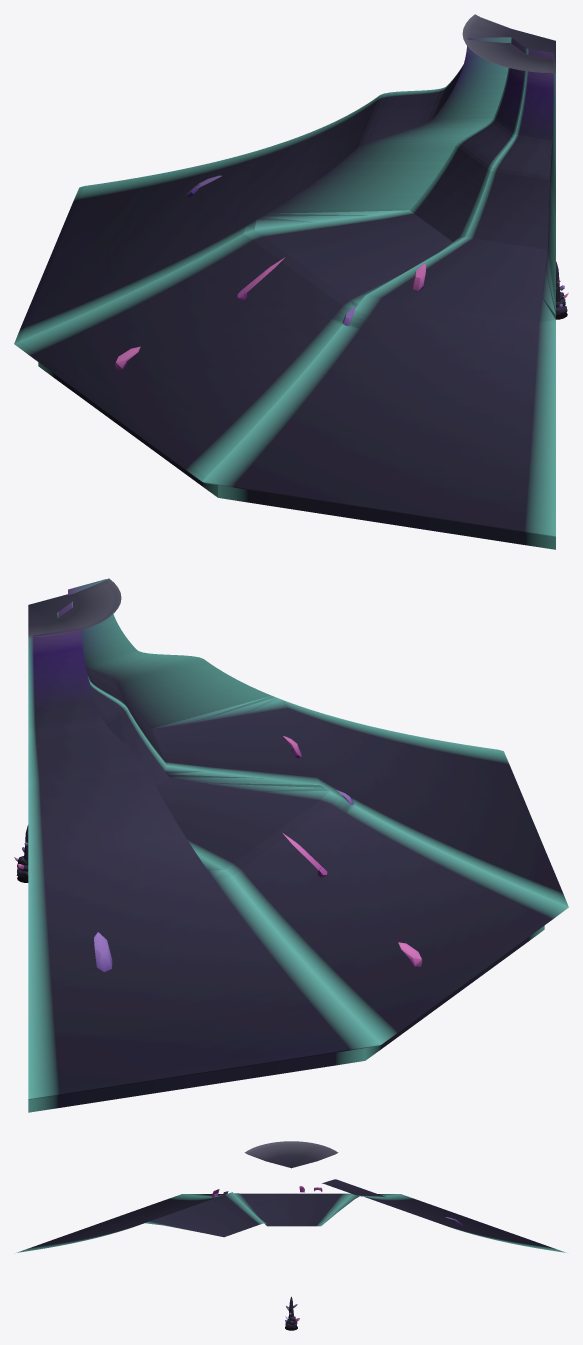
File: caverns-s3-DIJC6Olo.glb
The picture shows the model from 3 angles, top to bottom: view 1: azimuth 30°, elevation 25°; view 2: azimuth 150°, elevation 25°; view 3: azimuth 270°, elevation 25°; orthographic projection. The views are drawn at different scales.
Parts seen in each view (by area): view 1: sc_landmark_1; view 2: sc_landmark_1; view 3: sc_landmark_1.
Part boxes in pixels (x1,y1,x2,y2): sc_landmark_1: (14,14,555,549); sc_landmark_1: (28,578,568,1112); sc_landmark_1: (16,1141,566,1252).
Size of the model in its own units: 417 by 254 by 745.
